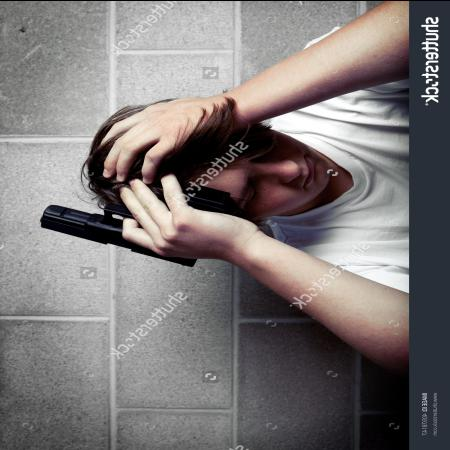Pistol: (33, 185, 239, 260)
